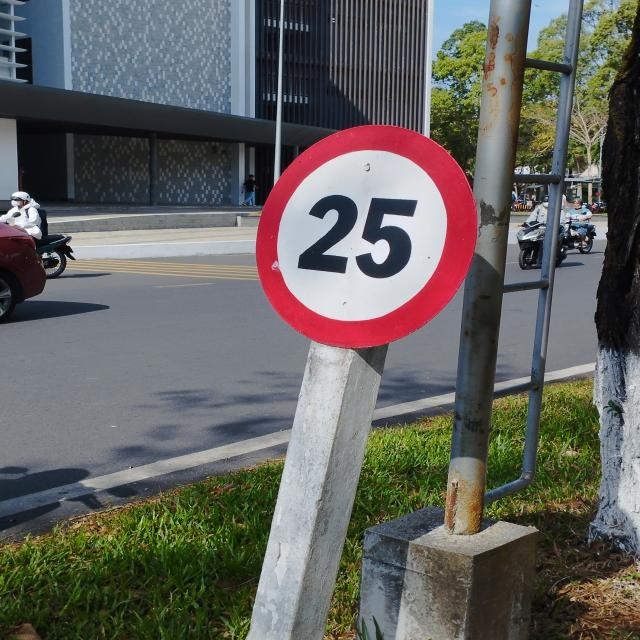Tre_Em: (255, 125, 481, 348)
